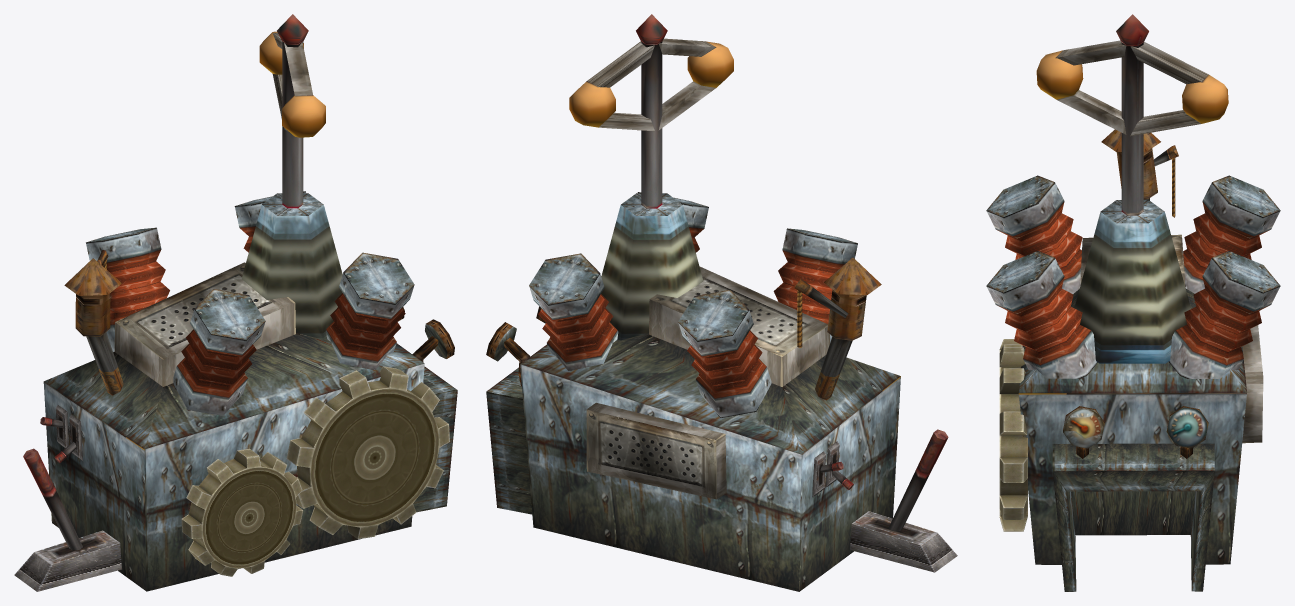
File: engineering_autolathe_01.obj
3 renders of one model, left to right at view 1: azimuth 30°, elevation 25°; view 2: azimuth 150°, elevation 25°; view 3: azimuth 270°, elevation 25°, orthographic. The views are drawn at different scales.
Visible parts, largest first — view 1: Geoset1, Geoset6, Geoset0, Geoset5, Geoset4, Geoset3, Geoset2; view 2: Geoset1, Geoset0, Geoset5, Geoset4, Geoset2, Geoset3; view 3: Geoset1, Geoset6, Geoset0.
Boxes of the visible parts, x1,y1,x2,y2 form: Geoset1: [43, 14, 457, 591]; Geoset6: [181, 366, 449, 576]; Geoset0: [64, 258, 454, 361]; Geoset5: [14, 405, 121, 591]; Geoset4: [23, 417, 82, 550]; Geoset3: [34, 408, 119, 564]; Geoset2: [86, 250, 123, 395]; Geoset1: [486, 14, 900, 591]; Geoset0: [486, 257, 881, 386]; Geoset5: [812, 441, 957, 572]; Geoset4: [820, 429, 948, 531]; Geoset2: [794, 279, 852, 400]; Geoset3: [816, 445, 937, 545]; Geoset1: [986, 14, 1280, 591]; Geoset6: [999, 339, 1027, 531]; Geoset0: [1063, 129, 1208, 458].
Size of the model in its own units: 4.61 by 5.29 by 2.73.
8 materials, 8 textured.
